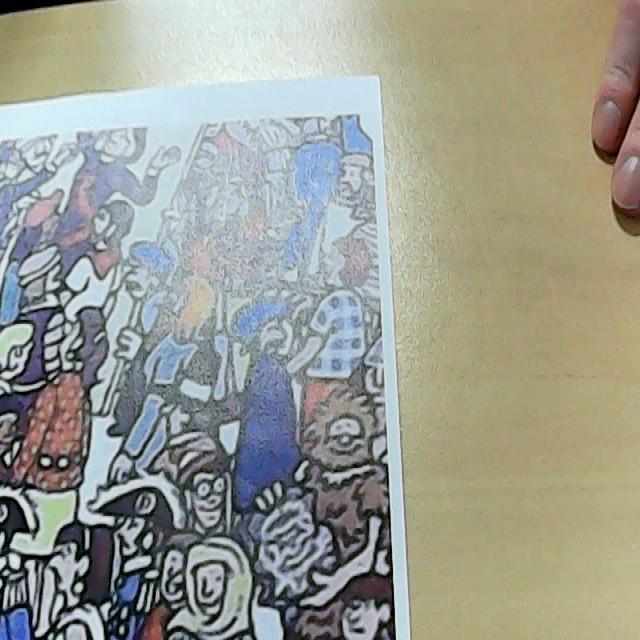waldo: (173, 442, 227, 532)
